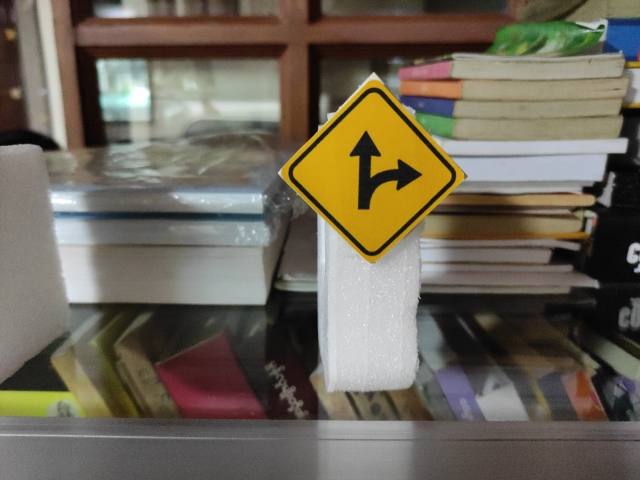Straight Or Right Sign: (285, 83, 461, 261)
